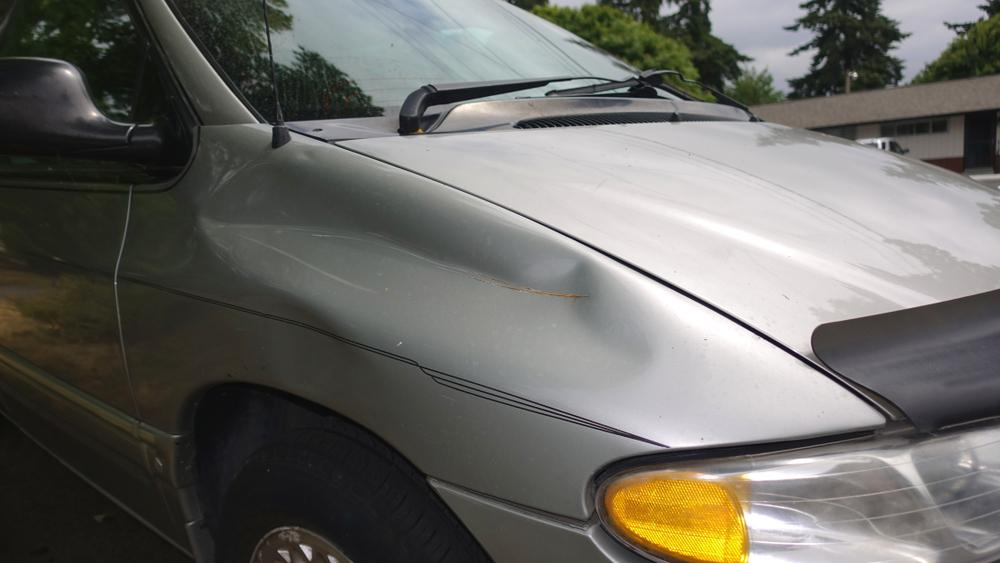dent: (200, 155, 648, 392)
